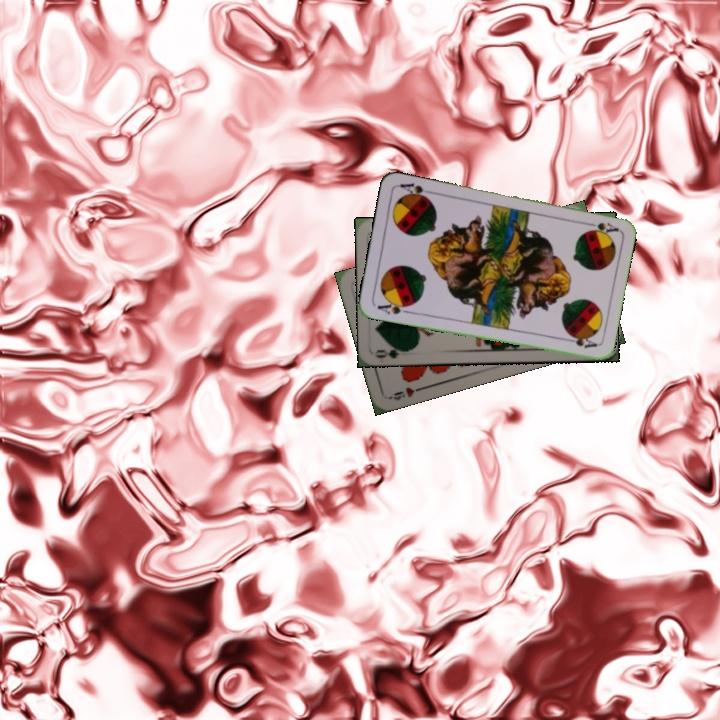GO: (373, 341, 413, 361)
H9: (386, 383, 426, 403)
SA: (373, 297, 414, 317), (580, 218, 621, 236)
